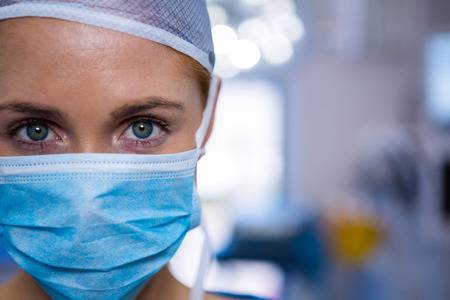surgical: (1, 144, 202, 300)
